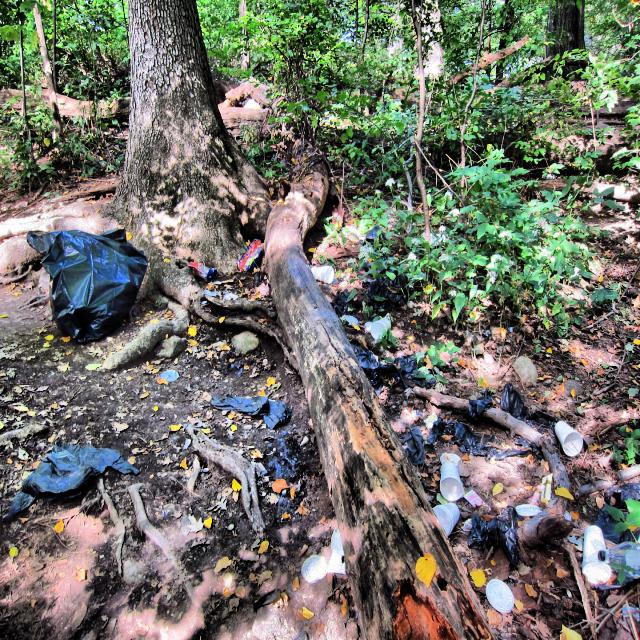garbage: (34, 222, 150, 332), (583, 516, 640, 584), (435, 447, 473, 507), (553, 411, 584, 461), (344, 312, 391, 335), (156, 364, 186, 399), (308, 253, 334, 288)
